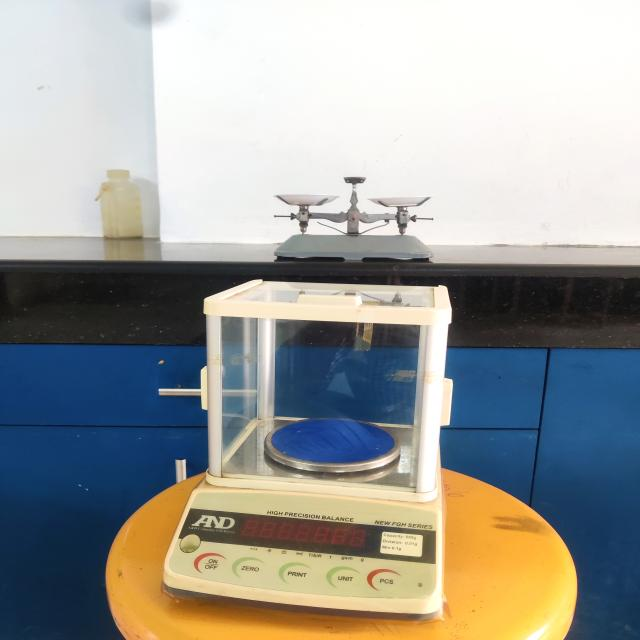Mechanical_Balance_Scale: (254, 154, 454, 275)
Precision_Weight_Scale: (139, 272, 486, 638)
